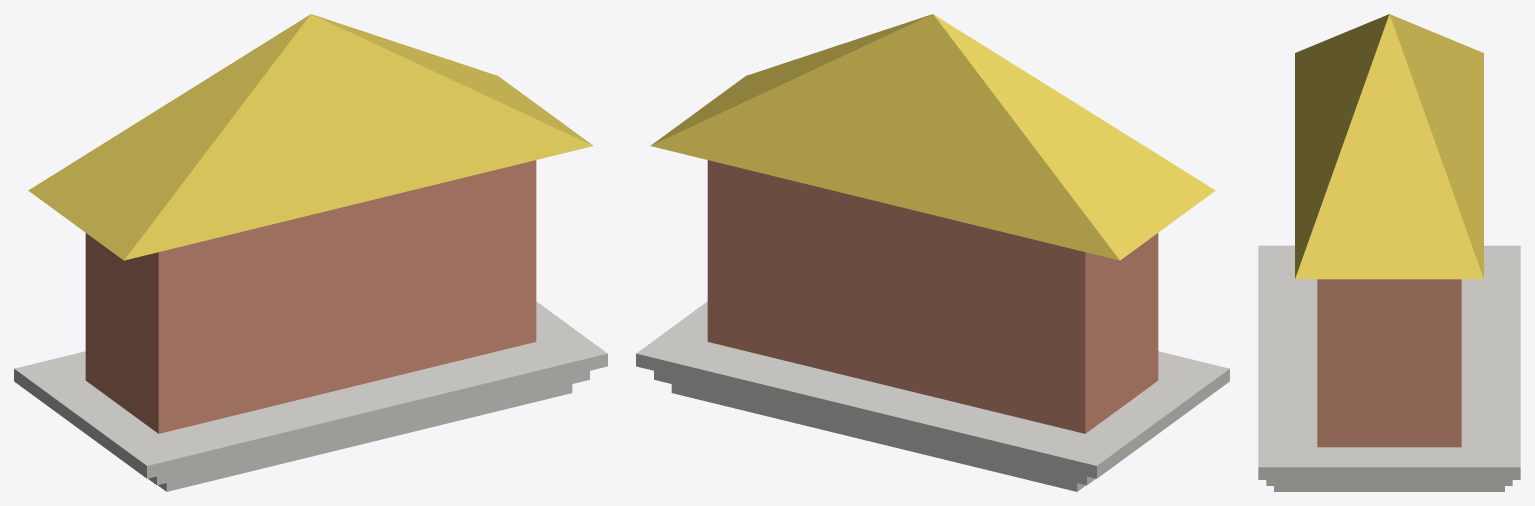
The model's file is 保和殿.glb.
3 renders of one model, left to right at view 1: azimuth 30°, elevation 25°; view 2: azimuth 150°, elevation 25°; view 3: azimuth 270°, elevation 25°, orthographic.
Visible parts, largest first — view 1: body, roof, step2, step1, step0; view 2: body, roof, step2, step1, step0; view 3: roof, step2, body, step1, step0.
Part boxes in pixels (x1,y1,x2,y2): body: [85, 160, 536, 433]; roof: [28, 14, 593, 260]; step2: [14, 301, 607, 478]; step1: [148, 371, 589, 485]; step0: [158, 384, 572, 491]; body: [707, 160, 1158, 433]; roof: [650, 14, 1215, 260]; step2: [636, 301, 1229, 478]; step1: [654, 371, 1095, 485]; step0: [671, 384, 1085, 491]; roof: [1295, 14, 1483, 279]; step2: [1258, 245, 1520, 479]; body: [1317, 279, 1461, 447]; step1: [1266, 480, 1512, 485]; step0: [1274, 486, 1504, 491].
Bounding box in the file's own units: 5.1 × 4 × 2.5.
